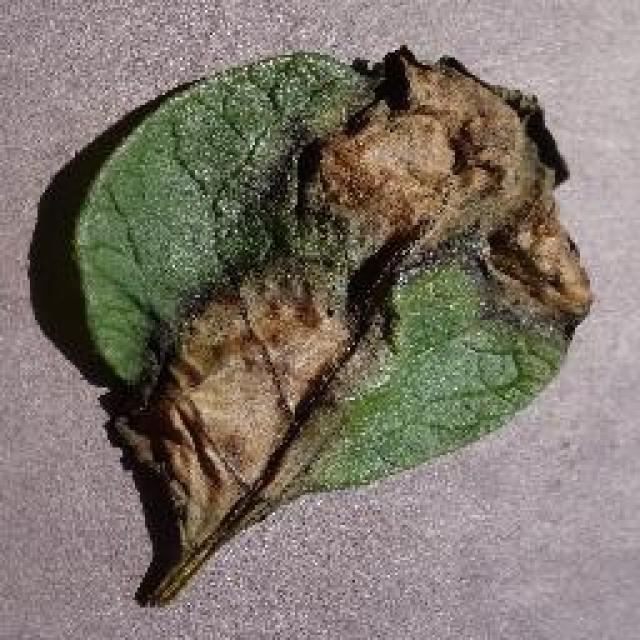Potato___Late_blight: (57, 25, 605, 623)
